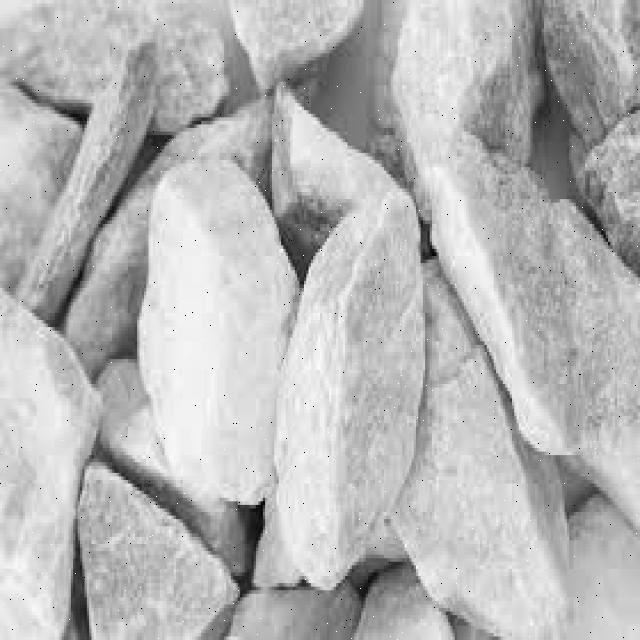Metamorphic: (2, 3, 633, 626)
